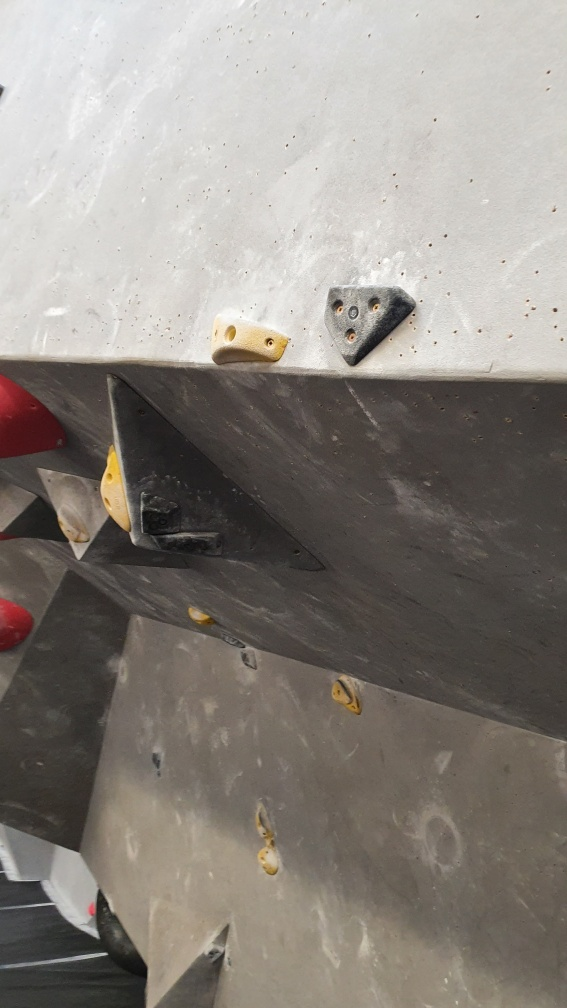Crimp: (318, 281, 422, 370)
Pinch: (208, 311, 292, 373)
